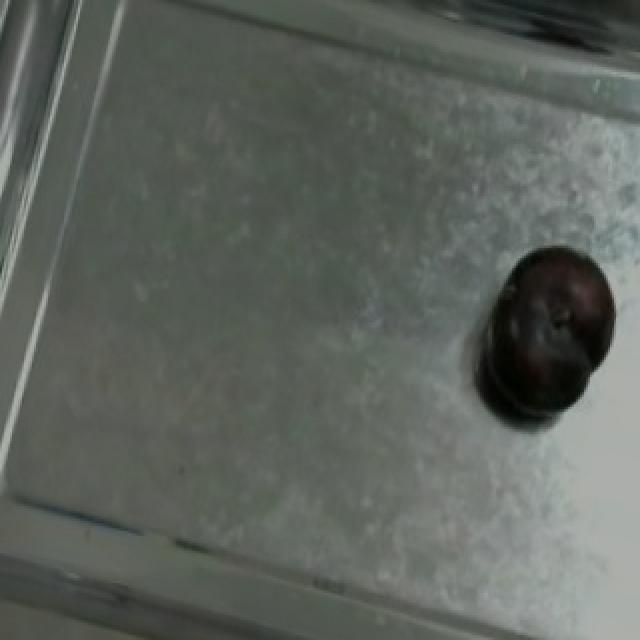Fruit: (472, 226, 630, 439)
